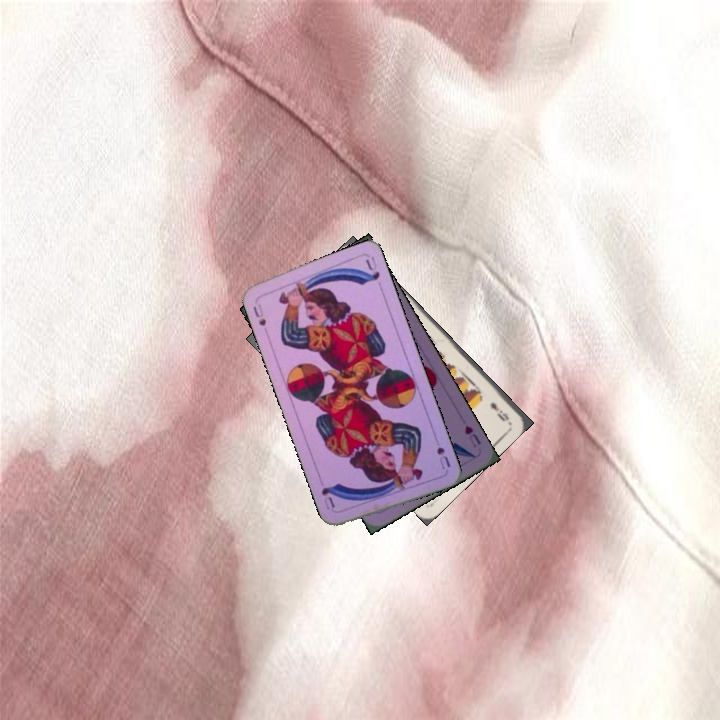E9: (486, 398, 512, 424)
HU: (460, 421, 484, 450)
SU: (432, 442, 453, 472), (249, 300, 269, 329)
